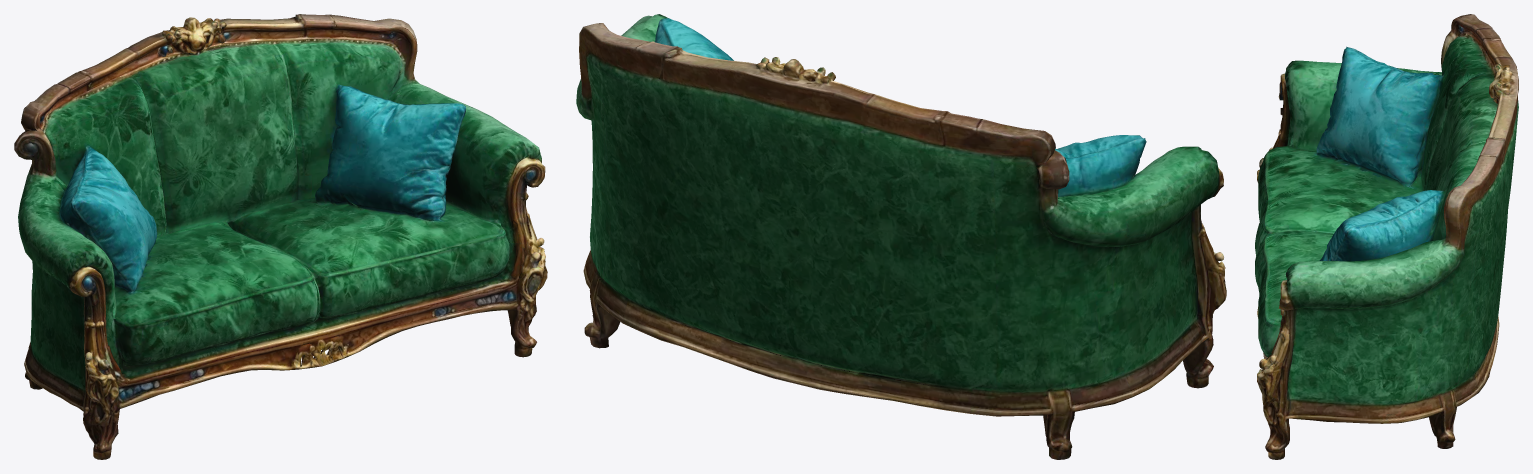
File: velvetsofa3dmodel_1.glb
3 views of the same model, side by side, from view 1: azimuth 30°, elevation 25°; view 2: azimuth 150°, elevation 25°; view 3: azimuth 270°, elevation 25° (orthographic). The views are drawn at different scales.
Visible parts, largest first — view 1: tripo_node_9c011463-85c6-46ed-890b-2912a8a2ac07; view 2: tripo_node_9c011463-85c6-46ed-890b-2912a8a2ac07; view 3: tripo_node_9c011463-85c6-46ed-890b-2912a8a2ac07.
Part boxes in pixels (<box>): tripo_node_9c011463-85c6-46ed-890b-2912a8a2ac07: <box>14,14,547,459</box>; tripo_node_9c011463-85c6-46ed-890b-2912a8a2ac07: <box>576,14,1226,459</box>; tripo_node_9c011463-85c6-46ed-890b-2912a8a2ac07: <box>1255,14,1518,459</box>.
Bounding box in the file's own units: 0.9781 × 0.5915 × 0.492.
Materials: 1 (1 with a texture image).
